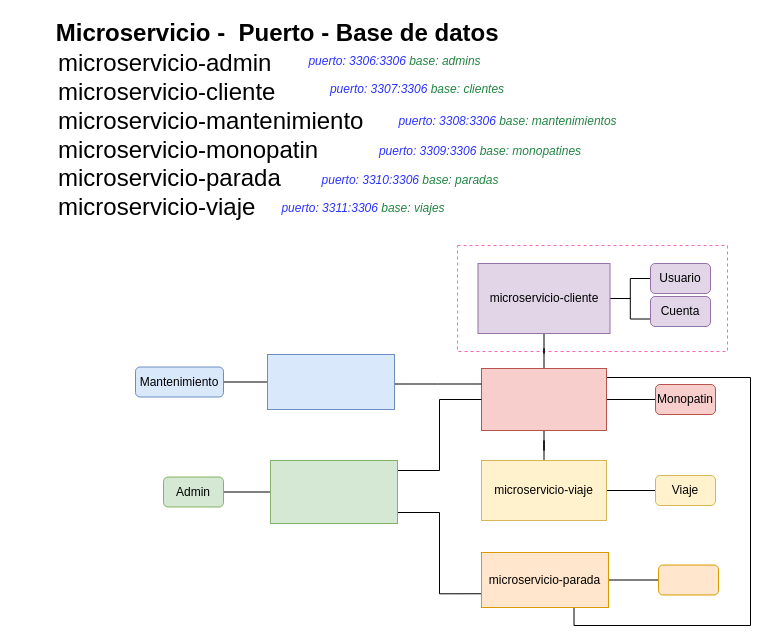
The diagram is 769 pixels wide and 644 high, and some of its shapes have lost their labels. The shapes that lost their labels are listed below. From the top down, each one's box as (x1, y1, x2, y2) in pixels, then its label:
(266, 354, 394, 410): microservicio-mantenimiento
(480, 368, 606, 430): microservicio-monopatin
(270, 460, 398, 524): microservicio-admin
(658, 564, 718, 595): Parada
